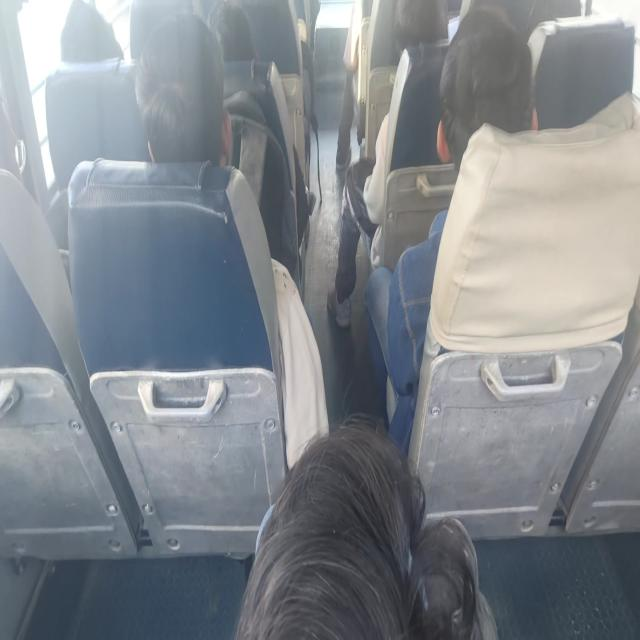person: (234, 428, 503, 640), (443, 32, 533, 177), (141, 36, 234, 162), (60, 1, 127, 64), (393, 0, 456, 61), (205, 5, 258, 67)
